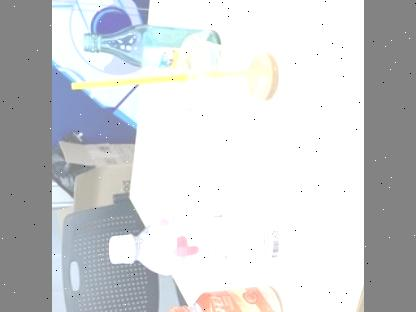Others: (171, 32, 280, 115), (80, 20, 220, 74), (159, 282, 285, 312)
Plastic Bottle: (106, 203, 290, 277)
